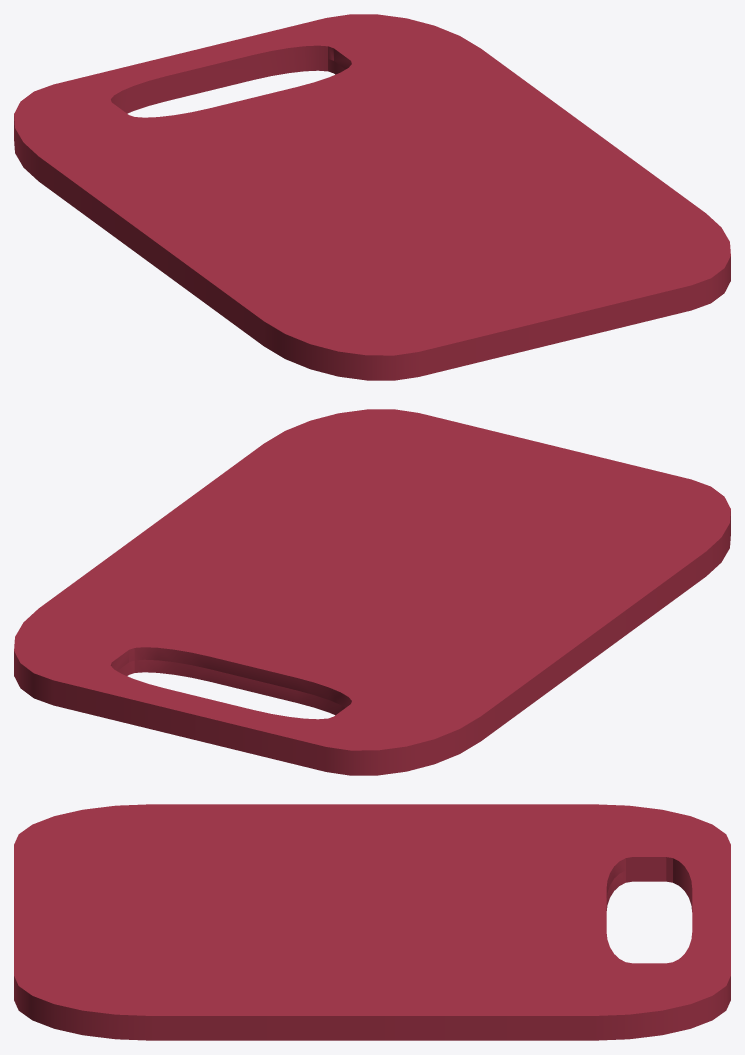
The model's file is kesme tahtası.fbx.
3 views of the same model, one above another, from view 1: azimuth 30°, elevation 25°; view 2: azimuth 150°, elevation 25°; view 3: azimuth 270°, elevation 25° (orthographic).
Parts seen in each view (by area): view 1: Cube; view 2: Cube; view 3: Cube.
Part boxes in pixels (x1,y1,x2,y2): Cube: [14, 14, 730, 380]; Cube: [14, 409, 730, 775]; Cube: [14, 804, 730, 1040].
Size of the model in its own units: 200 by 10.85 by 286.
